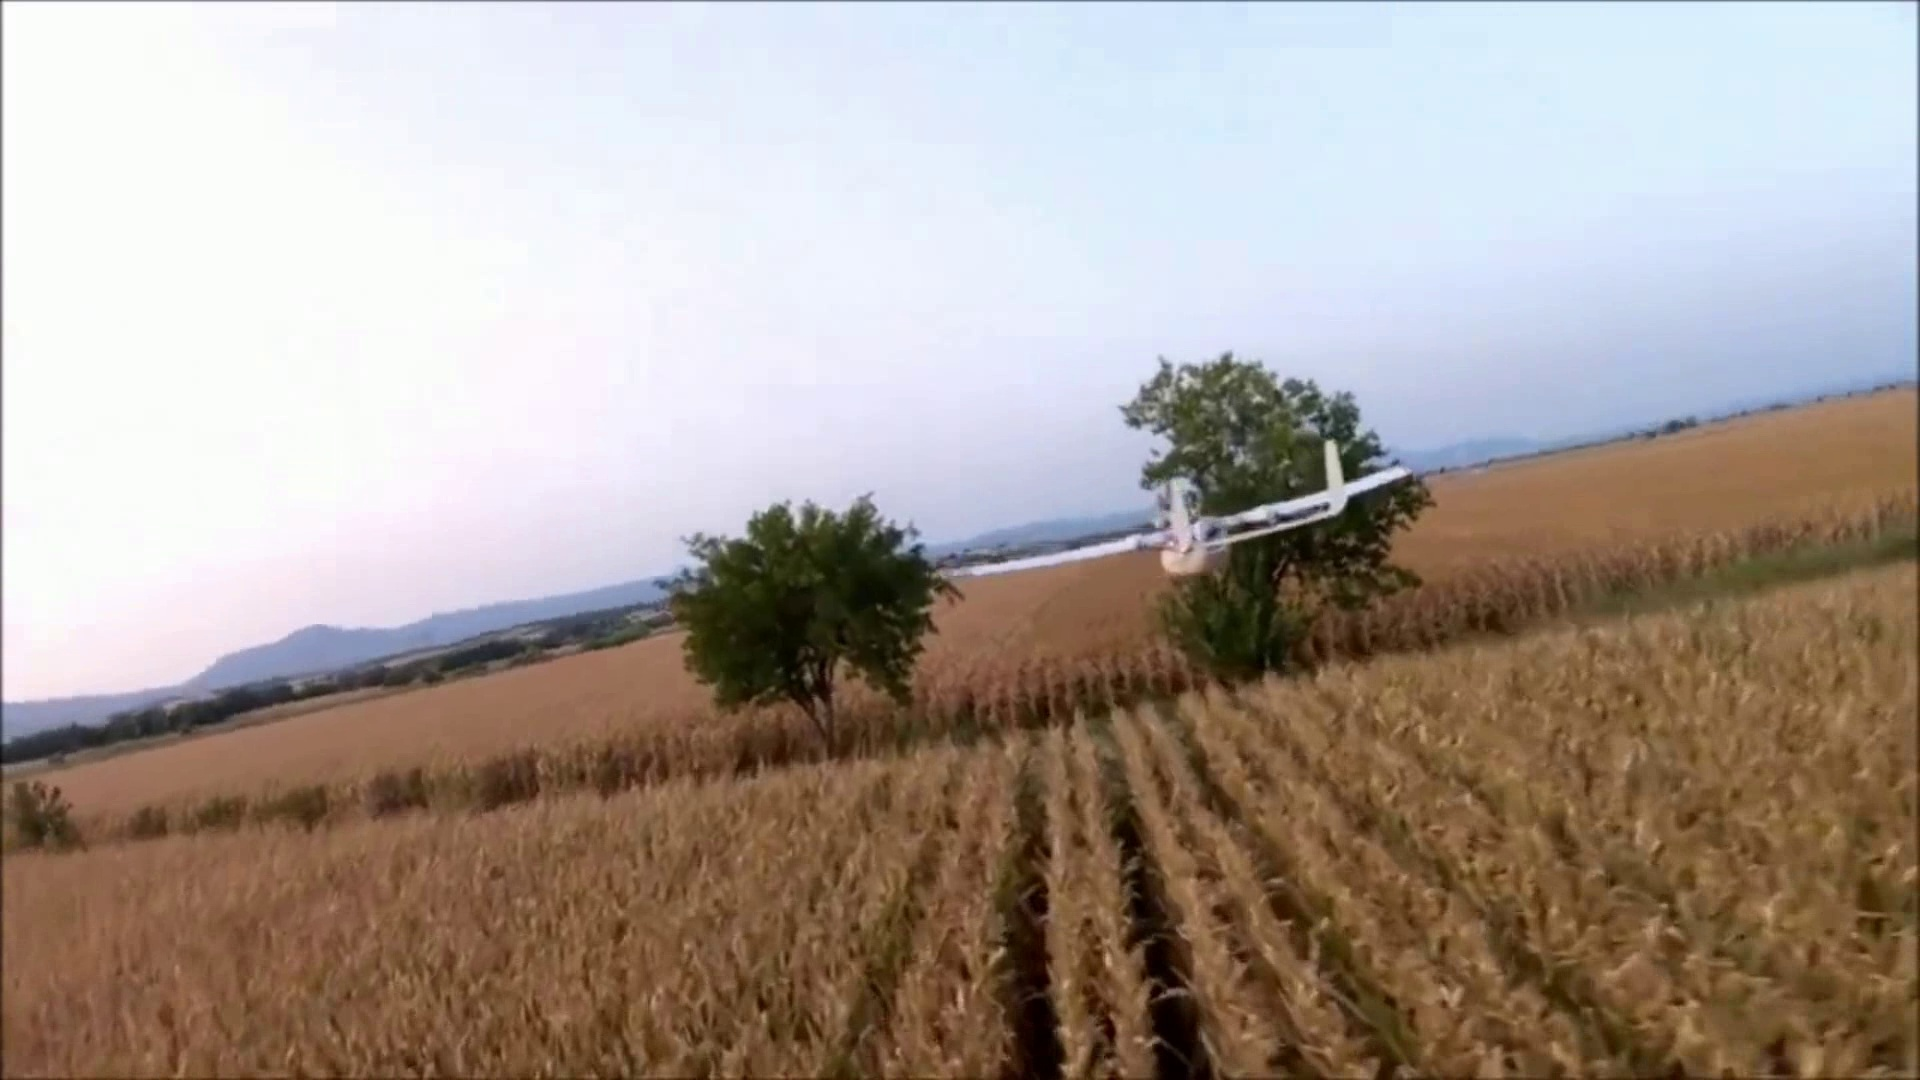airplane: (1156, 465, 1423, 574)
